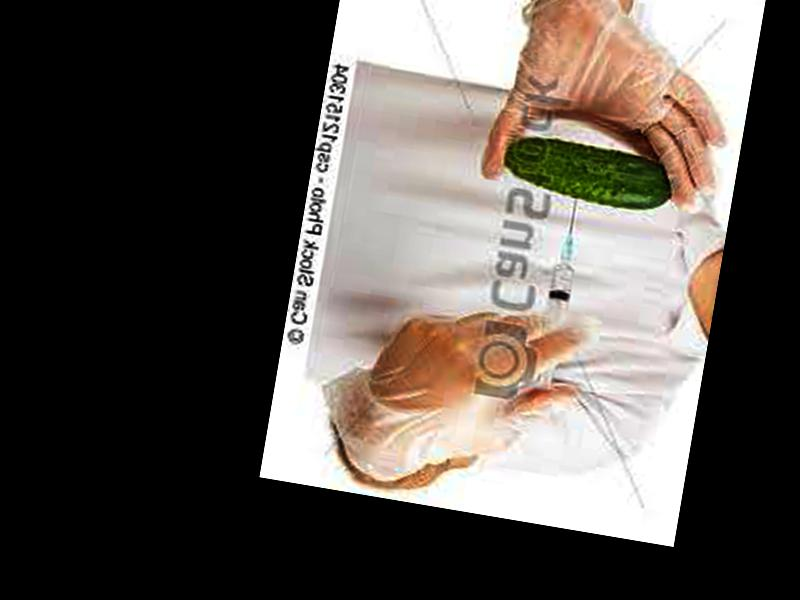Cucumber: (497, 129, 677, 213)
